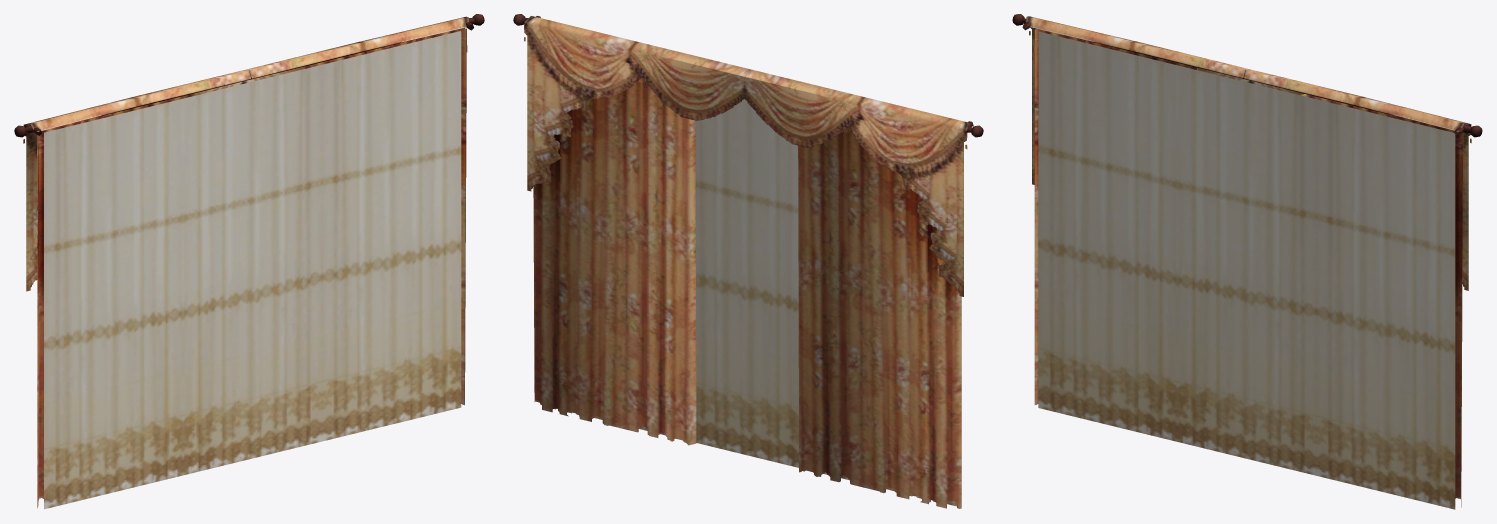
Rendered from furni_0200335.FBX.
3 views of the same model, side by side, from view 1: azimuth 30°, elevation 25°; view 2: azimuth 150°, elevation 25°; view 3: azimuth 330°, elevation 25° (orthographic).
Parts seen in each view (by area): view 1: furni_0200335; view 2: furni_0200335; view 3: furni_0200335.
Boxes of the visible parts, x1,y1,x2,y2 form: furni_0200335: [14, 14, 484, 509]; furni_0200335: [513, 14, 983, 508]; furni_0200335: [1012, 14, 1482, 509].
Bounding box in the file's own units: 353 × 279 × 14.25.
Materials: 2 (2 with a texture image).
